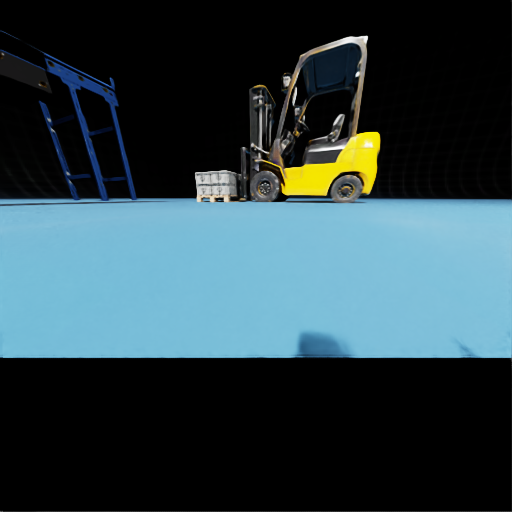transportation_area: (211, 183, 240, 194)
